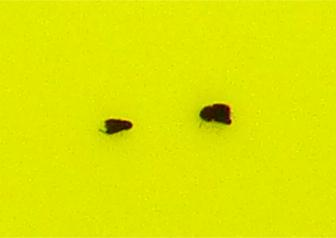Hemiptera: (194, 100, 236, 128), (100, 117, 134, 138)
